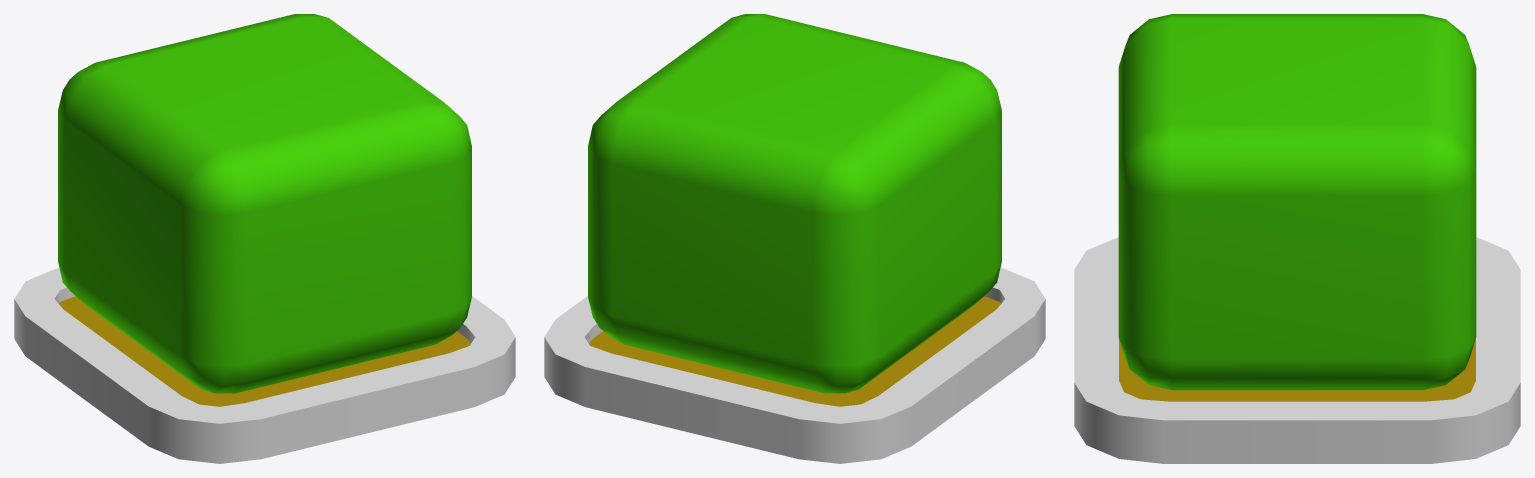
The model's file is grass_3.fbx.
The picture shows the model from 3 angles, left to right: view 1: azimuth 30°, elevation 25°; view 2: azimuth 150°, elevation 25°; view 3: azimuth 270°, elevation 25°; orthographic projection. The views are drawn at different scales.
Parts seen in each view (by area): view 1: grass_3; view 2: grass_3; view 3: grass_3.
Part boxes in pixels (x1=…): grass_3: x1=14, y1=14, x2=515, y2=463; grass_3: x1=544, y1=14, x2=1045, y2=463; grass_3: x1=1074, y1=14, x2=1520, y2=463.
Bounding box in the file's own units: 243 × 179 × 243.
